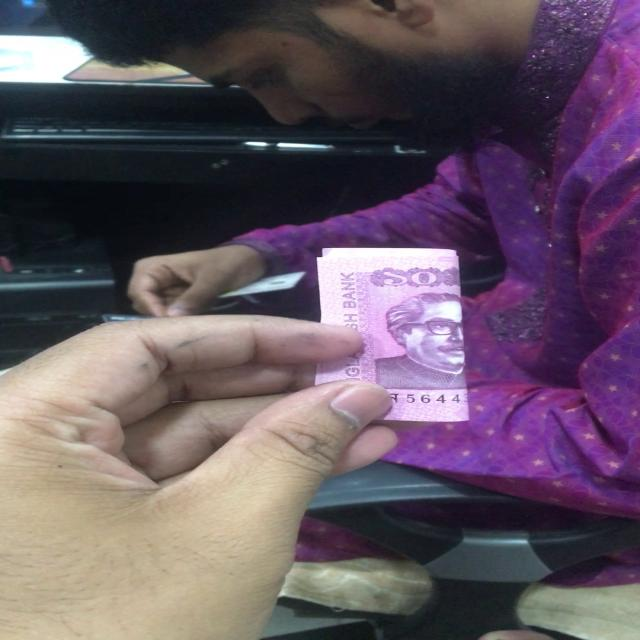Taka: (311, 243, 482, 435)
